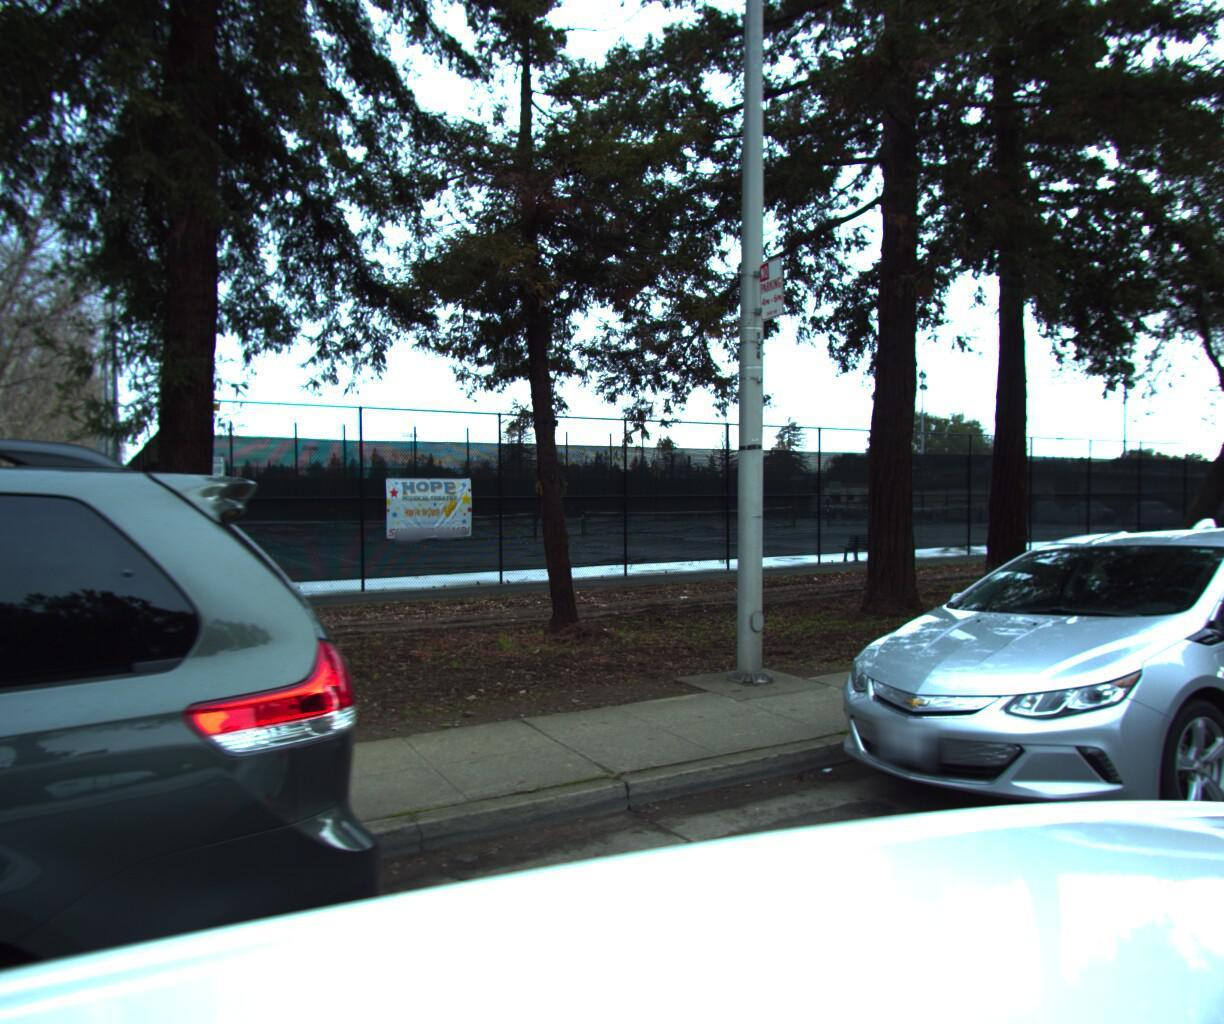car: (769, 513, 1224, 937)
